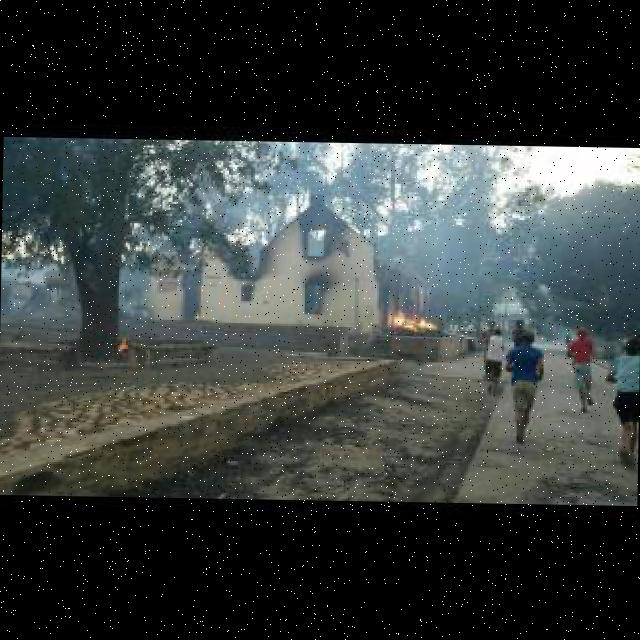fire: (378, 294, 444, 337)
